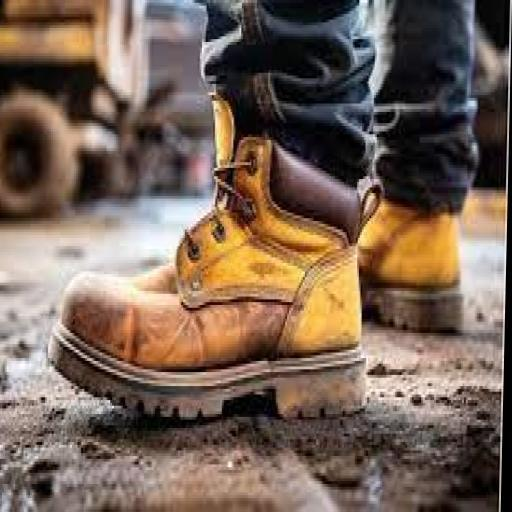safety_boots: (26, 146, 374, 446), (365, 188, 478, 339)
